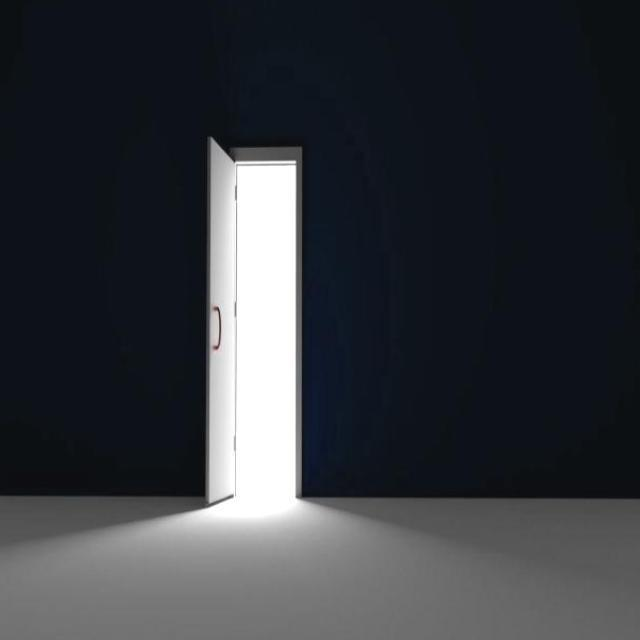door: (204, 135, 243, 508)
